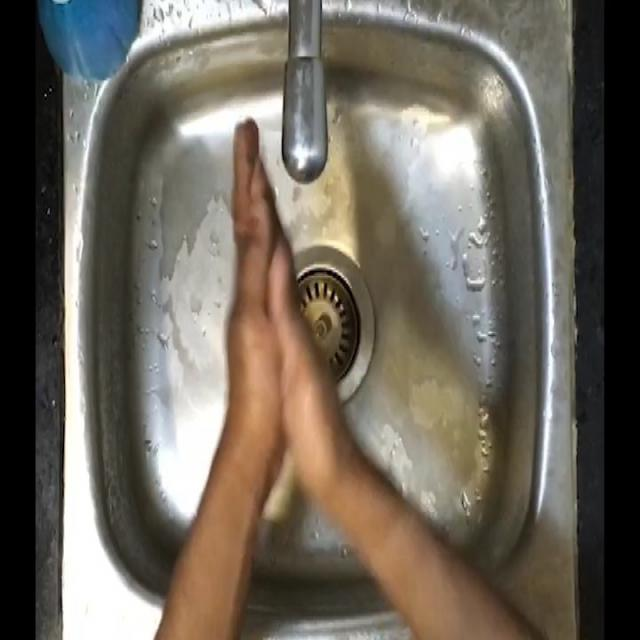step_1: (190, 104, 334, 438)
